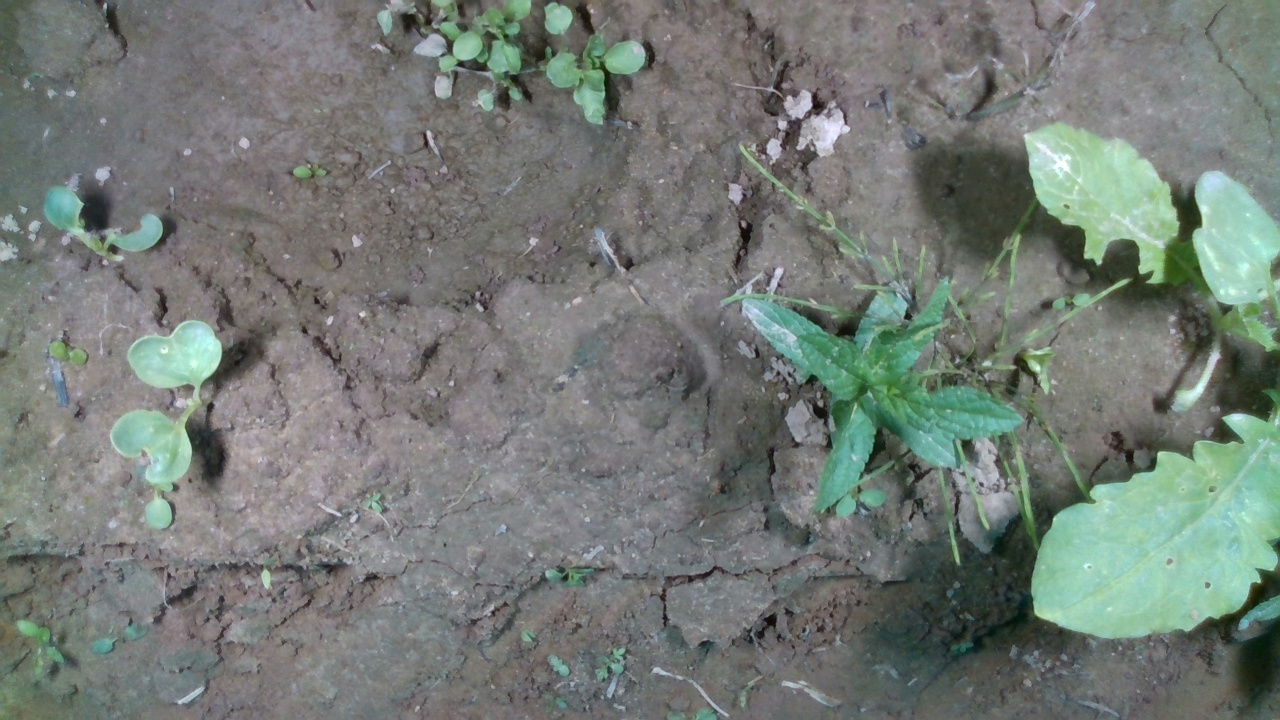weed: (45, 340, 90, 366), (290, 163, 328, 179), (545, 654, 570, 678)
